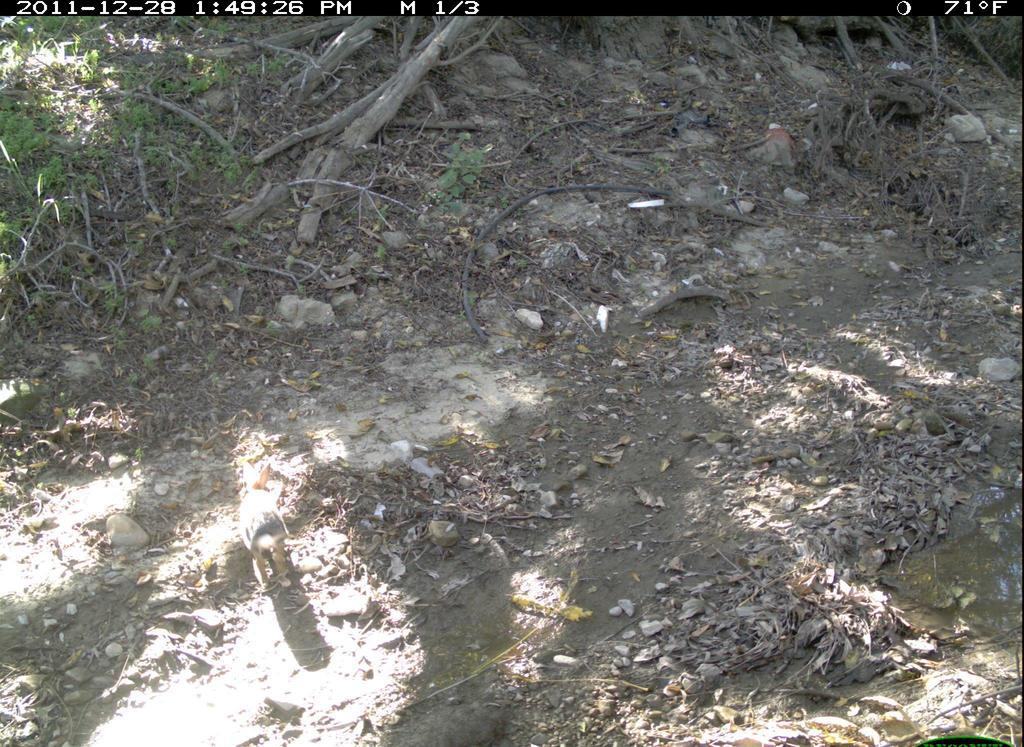rabbit: (231, 456, 303, 609)
